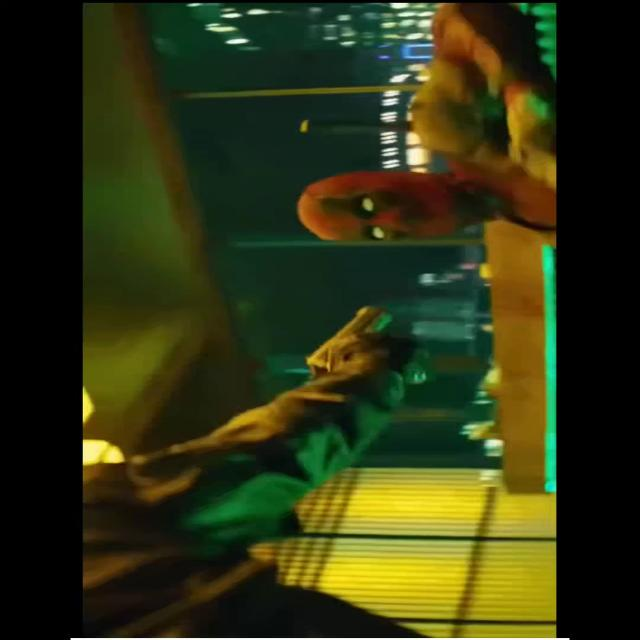weapons: (276, 293, 436, 397)
